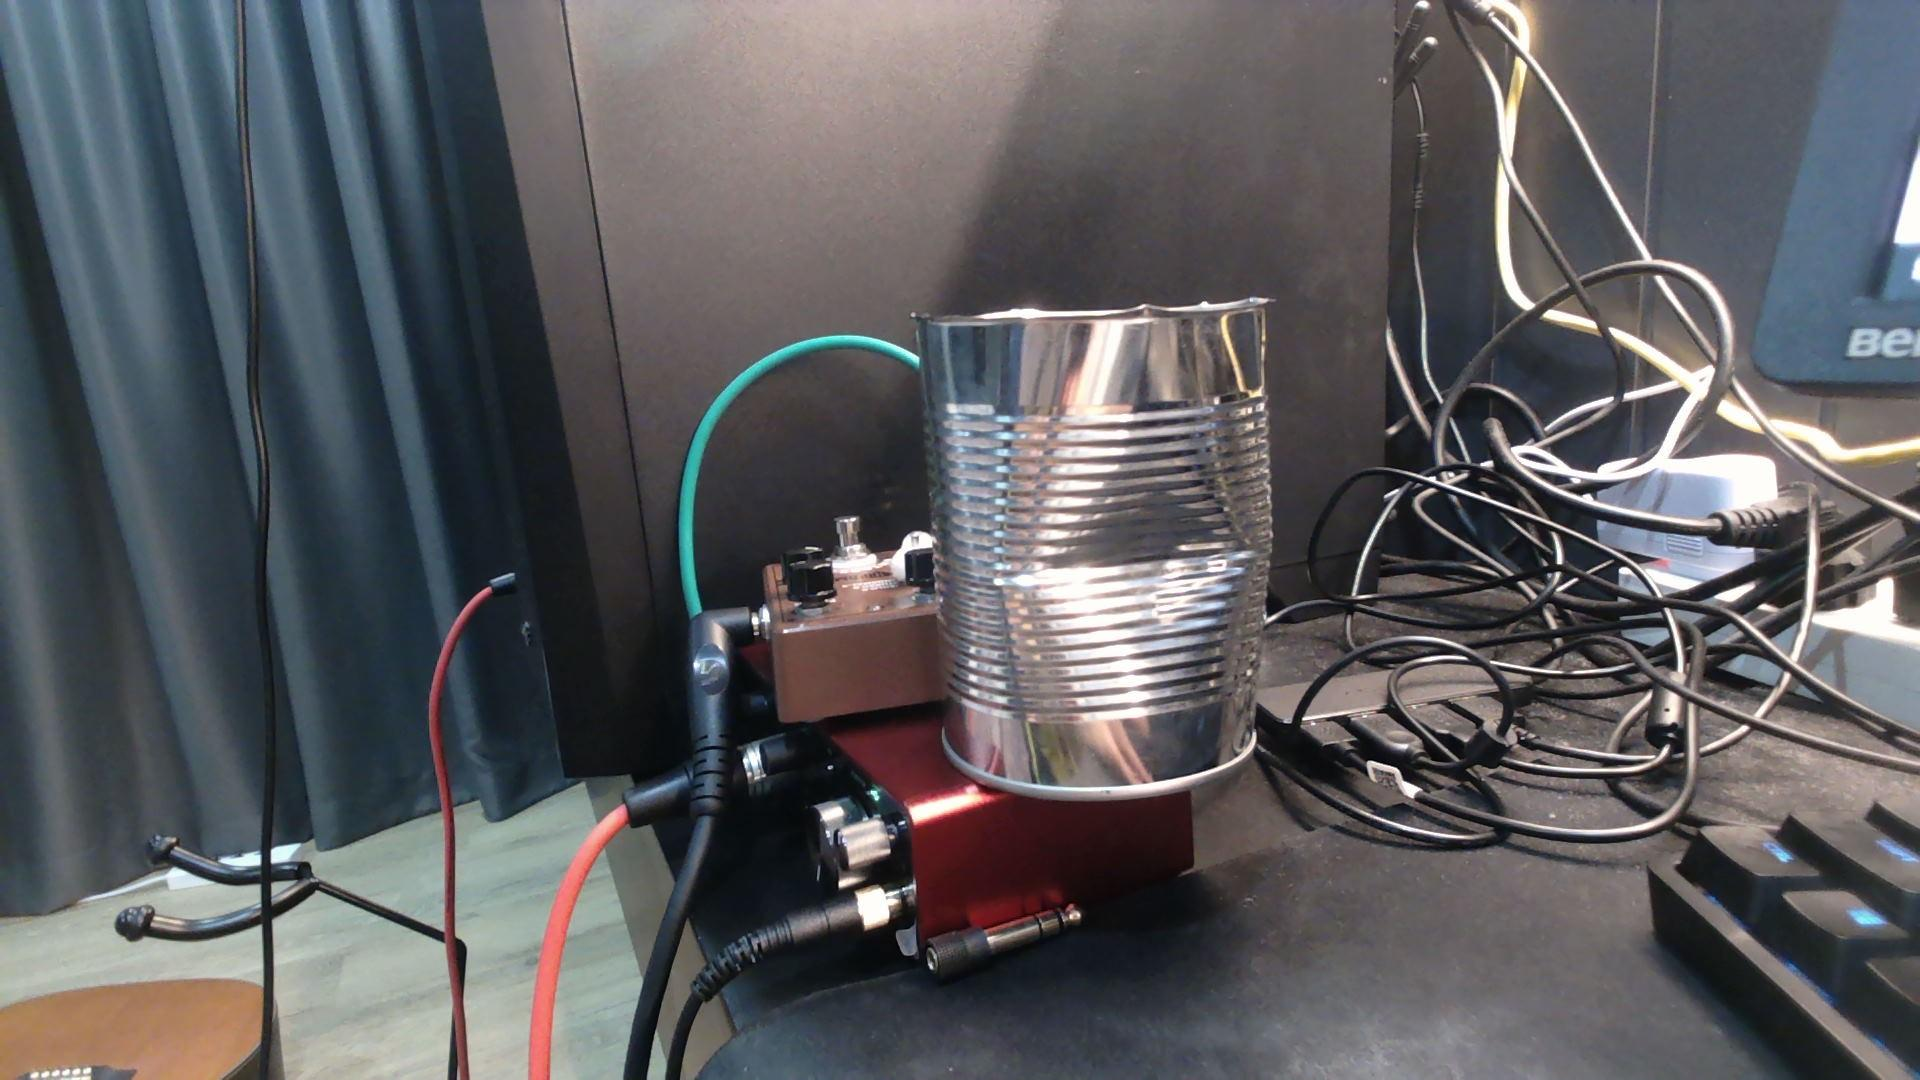metal: (914, 285, 1287, 814)
